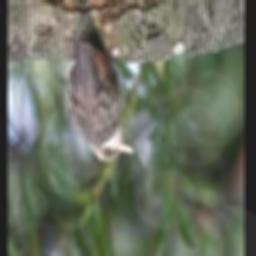Cuckoo: (67, 36, 134, 162)
